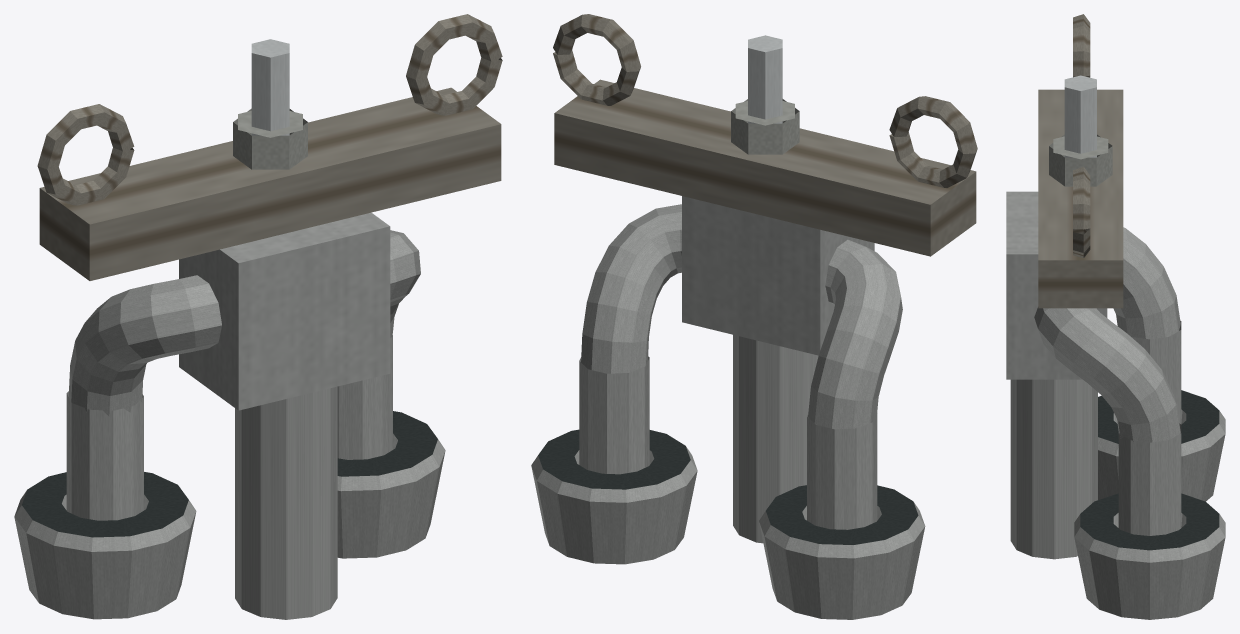
The model's file is cell_5.obj.
The picture shows the model from 3 angles, left to right: view 1: azimuth 30°, elevation 25°; view 2: azimuth 150°, elevation 25°; view 3: azimuth 270°, elevation 25°; orthographic projection. The views are drawn at different scales.
Bounding box in the file's own units: 0.8534 × 0.95 × 0.4123.
